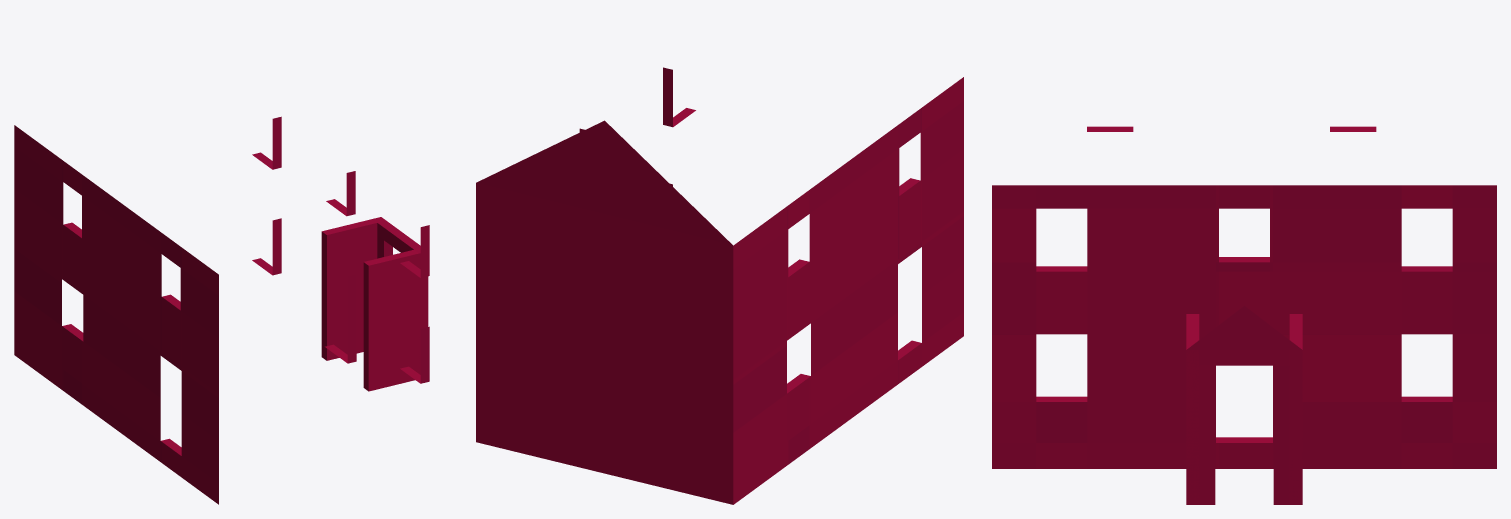
Rendered from SM_Bld_108_Masonry.glb.
3 views of the same model, side by side, from view 1: azimuth 30°, elevation 25°; view 2: azimuth 150°, elevation 25°; view 3: azimuth 270°, elevation 25° (orthographic). The views are drawn at different scales.
Parts seen in each view (by area): view 1: SM_Bld_108_Masonry; view 2: SM_Bld_108_Masonry; view 3: SM_Bld_108_Masonry.
Part boxes in pixels (<box>): SM_Bld_108_Masonry: <box>14,116,429,504</box>; SM_Bld_108_Masonry: <box>476,67,963,504</box>; SM_Bld_108_Masonry: <box>992,126,1496,504</box>.
Size of the model in its own units: 7.07 by 7.35 by 8.7.
